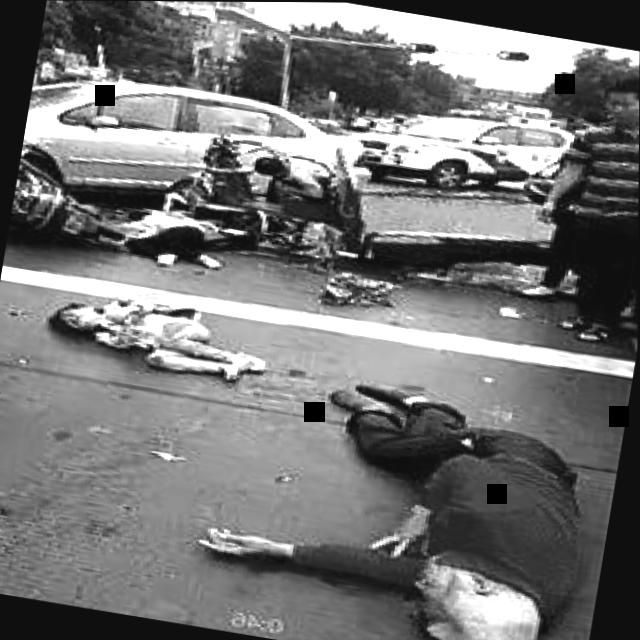Fall-Detected: (40, 271, 291, 396)
